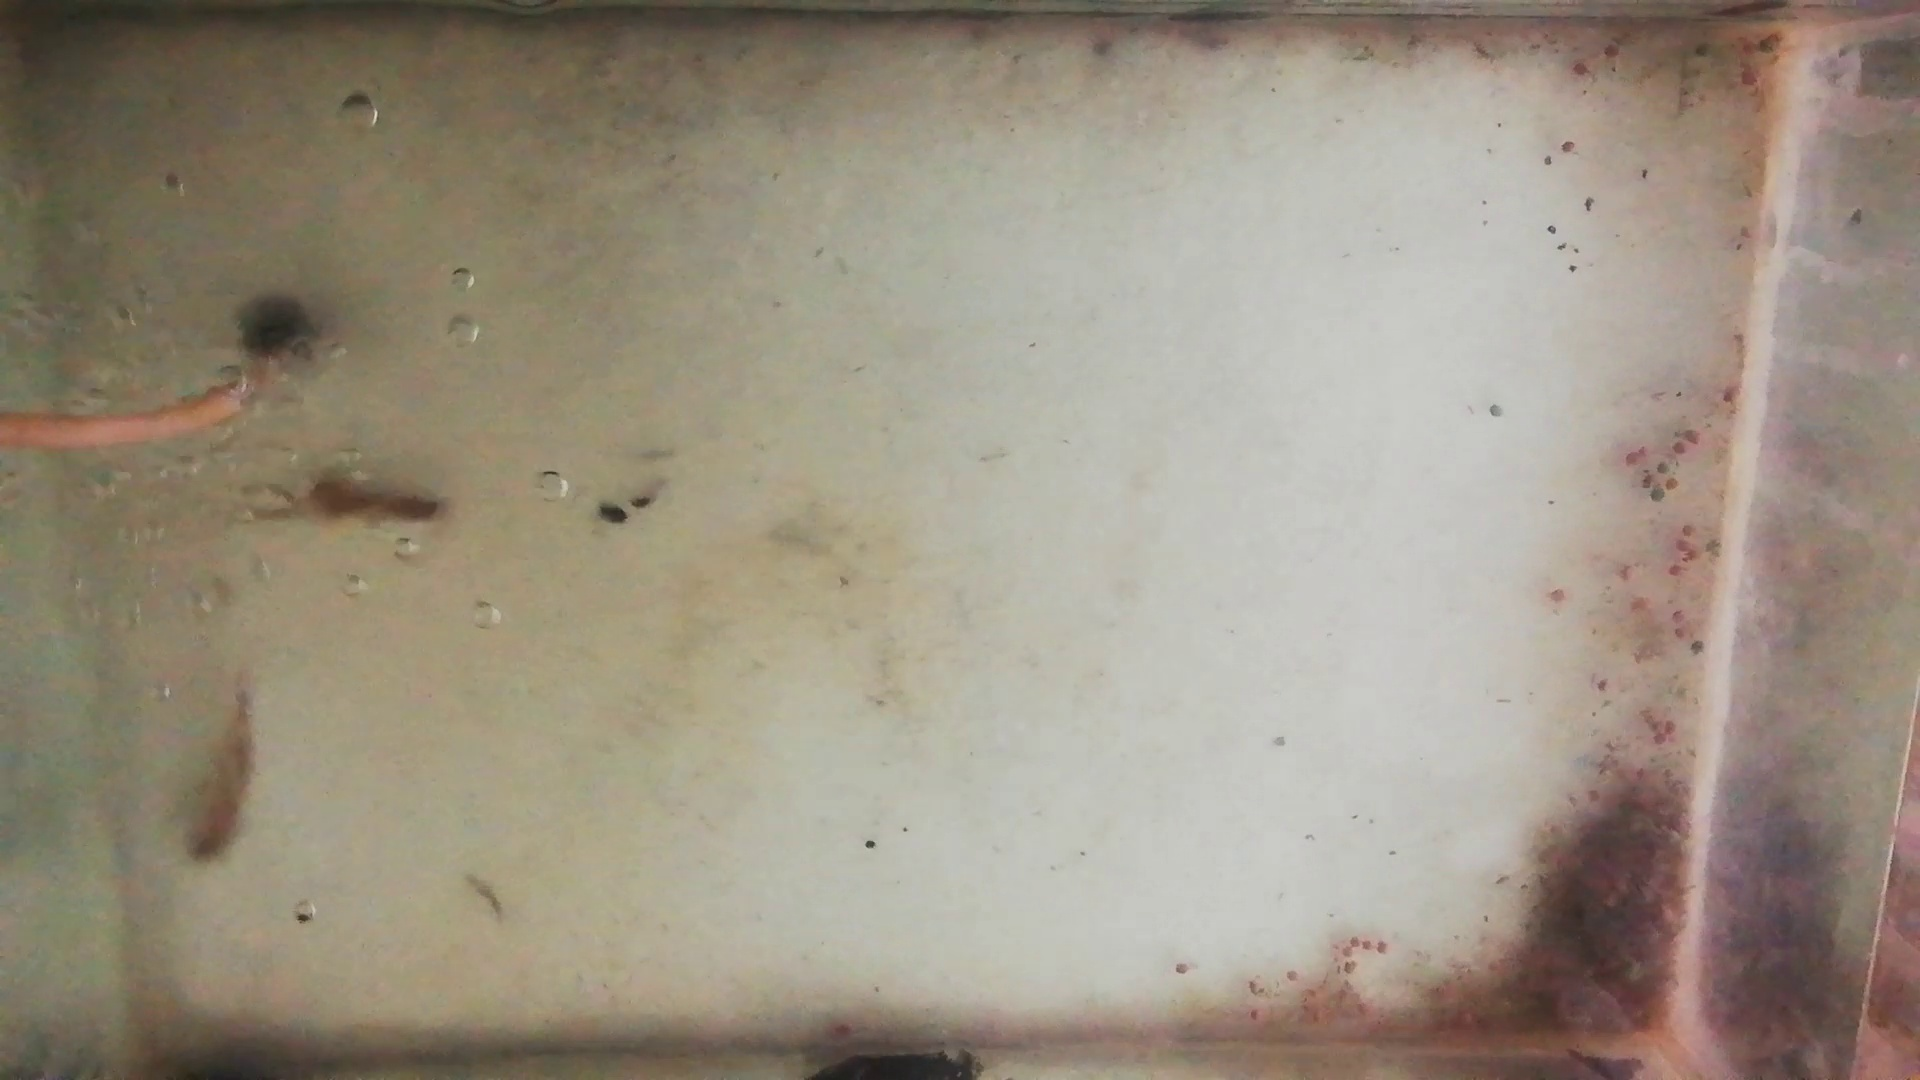fish: (185, 665, 260, 872), (236, 480, 450, 533)
